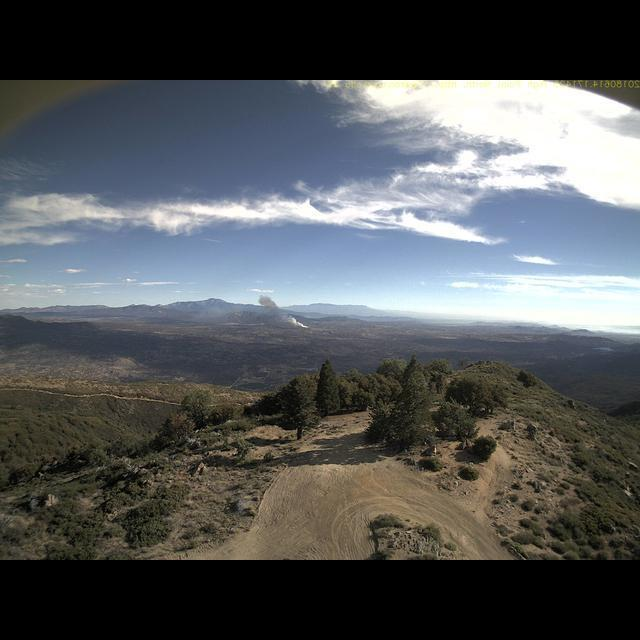Smoke: (254, 291, 312, 329)
